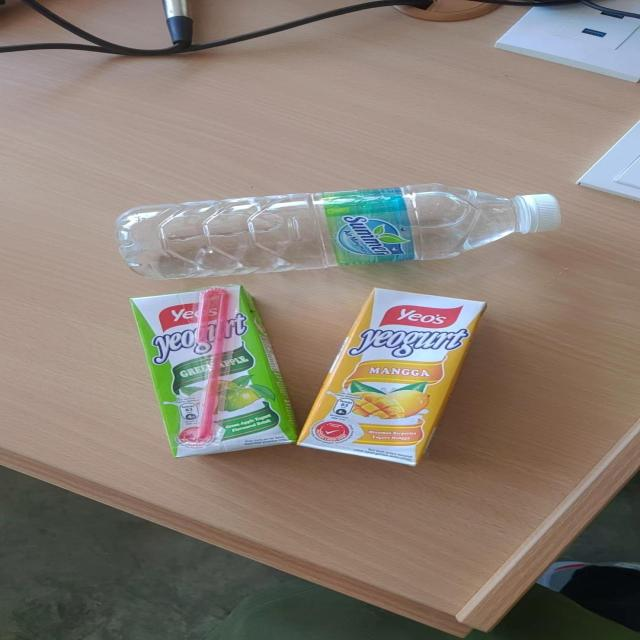plastic bottle: (116, 182, 521, 279)
plastic bottle cap: (516, 192, 568, 233)
